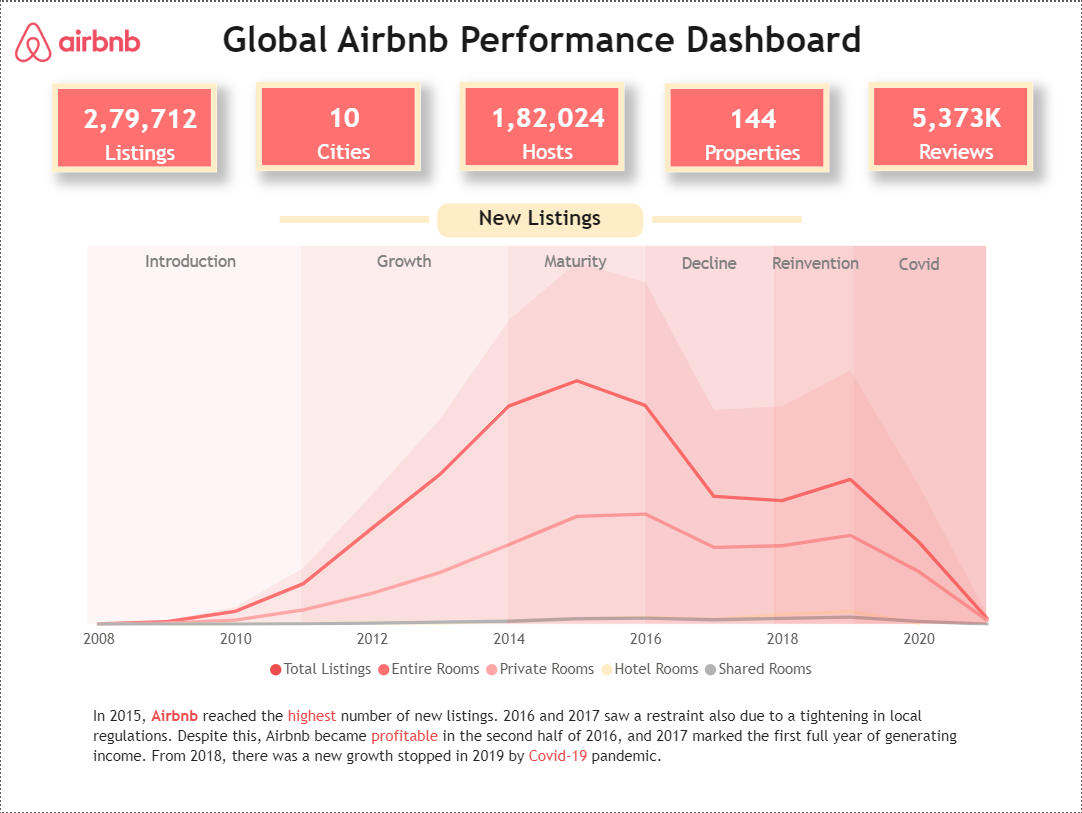

The dashboard page shown, as its layout file describes it:
{"tool":"powerbi","page":{"name":"Overview","canvas":[960,720],"ordinal":0},"visuals":[{"type":"textbox","box":[178.6,9,603.8,54.3],"z":0},{"type":"textbox","box":[387.5,178,183,30],"z":0,"group":"g1"},{"type":"shape","box":[248,43,133,300],"z":1000,"group":"g1"},{"type":"shape","box":[77,217,190,336],"z":1000},{"type":"shape","box":[579,43,133,300],"z":2000,"group":"g1"},{"type":"cardVisual","fields":{"Data":["CountNonNull(Listings.listing_id)"]},"box":[45,71.8,146,79],"z":2000},{"type":"shape","box":[267,217,183,336],"z":3000},{"type":"lineChart","fields":{"Y":["CountNonNull(Listings.listing_id)","Listings.Entire Rooms","Listings.Private Rooms","Listings.Hotel Rooms","Listings.Shared Rooms"],"Category":["Listings.host_since.Variation.Date Hierarchy.Year"]},"box":[68,217,828,396],"z":4000},{"type":"shape","box":[450,217,122,336],"z":5000},{"type":"cardVisual","fields":{"Data":["Count(Reviews.review_id)"]},"box":[771.6,71,146,79],"z":6000},{"type":"shape","box":[572,217,116,336],"z":7000},{"type":"cardVisual","fields":{"Data":["Count(Listings.city)"]},"box":[226.7,71,146,79],"z":8000},{"type":"shape","box":[688,217,70,336],"z":9000},{"type":"shape","box":[758,217,118,336],"z":10000},{"type":"cardVisual","fields":{"Data":["Count(Listings.host_id)"]},"box":[408.3,71,146,79],"z":11000},{"type":"textbox","box":[119,217,99,31],"z":12000},{"type":"cardVisual","fields":{"Data":["Count(Listings.property_type)"]},"box":[590,72,146,79],"z":13000},{"type":"textbox","box":[309,217,99,31],"z":14000},{"type":"textbox","box":[461,217,99,31],"z":15000},{"type":"textbox","box":[580,218,99,31],"z":16000},{"type":"textbox","box":[674,218,99,31],"z":17000},{"type":"textbox","box":[767,219,99,31],"z":18000},{"type":"group","id":"g1","title":"Group 3","box":[248,43,464,300],"z":19000},{"type":"textbox","box":[77,620,799,74],"z":20000},{"type":"image","box":[4,12,127,47],"z":21000}]}

Visuals, with their boxes in screenshot pixels (x1, y1, x2, y2), scaled from the page's 960x720 canvas onto the 1082x813 screenshot:
textbox: [201,10,882,71]
textbox: [437,201,643,235]
shape: [280,49,429,387]
shape: [87,245,301,624]
shape: [653,49,802,387]
cardVisual - CountNonNull(Listings.listing_id): [51,81,215,170]
shape: [301,245,507,624]
lineChart - CountNonNull(Listings.listing_id) x Listings.Entire Rooms: [77,245,1010,692]
shape: [507,245,645,624]
cardVisual - Count(Reviews.review_id): [870,80,1034,169]
shape: [645,245,775,624]
cardVisual - Count(Listings.city): [256,80,420,169]
shape: [775,245,854,624]
shape: [854,245,987,624]
cardVisual - Count(Listings.host_id): [460,80,625,169]
textbox: [134,245,246,280]
cardVisual - Count(Listings.property_type): [665,81,830,171]
textbox: [348,245,460,280]
textbox: [520,245,631,280]
textbox: [654,246,765,281]
textbox: [760,246,871,281]
textbox: [864,247,976,282]
"Group 3" group: [280,49,802,387]
textbox: [87,700,987,784]
image: [5,14,148,67]
